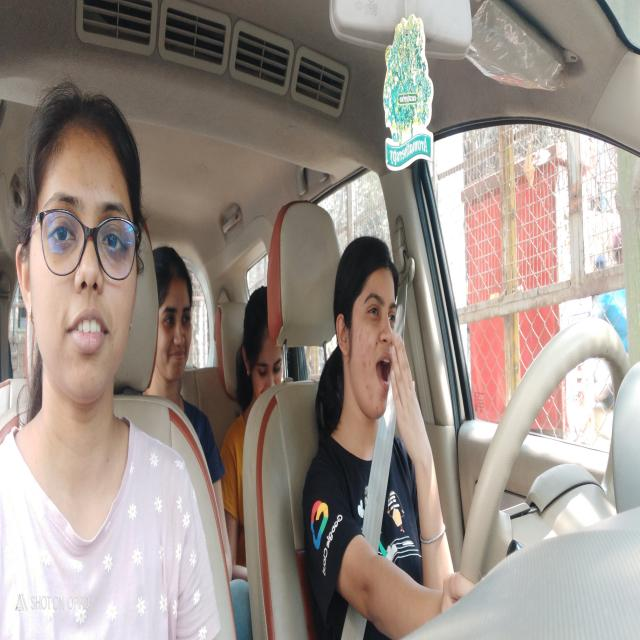drowsy: (331, 226, 406, 431)
person: (16, 82, 144, 422), (151, 221, 198, 397), (237, 279, 291, 416)
